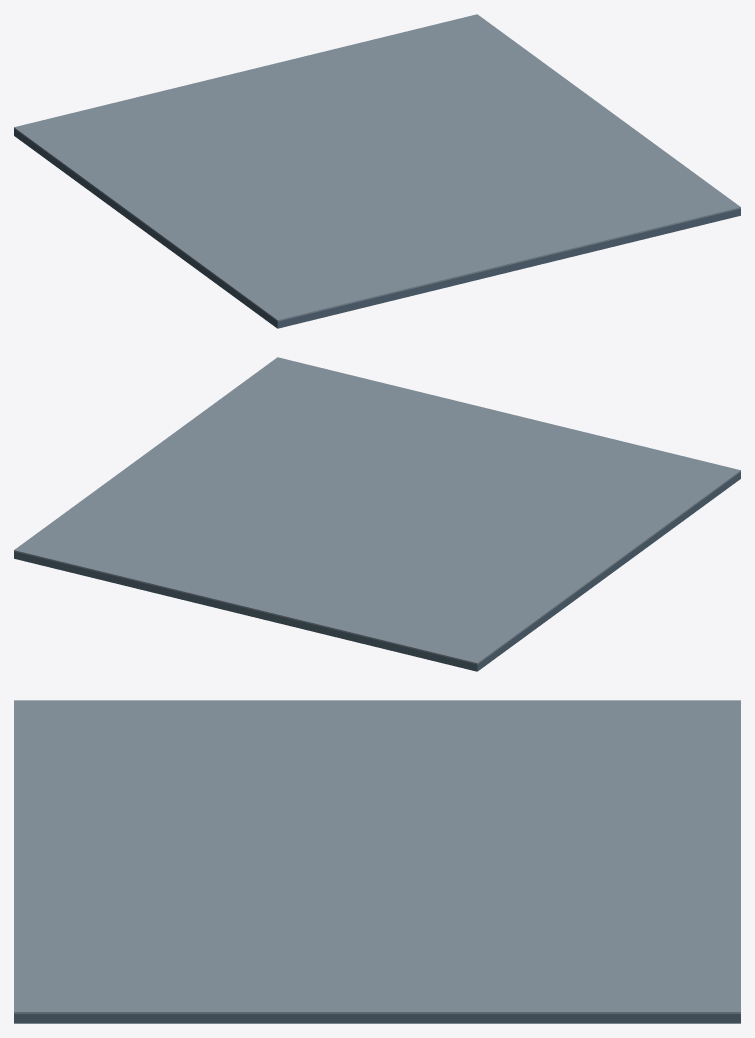
The model's file is TS-632.00.000-44-plita-dielektricheskaya-670x680.glb.
3 renders of one model, top to bottom at view 1: azimuth 30°, elevation 25°; view 2: azimuth 150°, elevation 25°; view 3: azimuth 270°, elevation 25°, orthographic. The views are drawn at different scales.
Visible parts, largest first — view 1: prokladka, plita; view 2: prokladka, plita; view 3: prokladka, plita.
Boxes of the visible parts, <box> form: prokladka: <box>14,14,740,321</box>; plita: <box>14,129,740,328</box>; prokladka: <box>14,357,740,664</box>; plita: <box>14,472,740,671</box>; prokladka: <box>14,700,740,1013</box>; plita: <box>14,1014,740,1023</box>.
Size of the model in its own units: 680 by 12 by 670.
